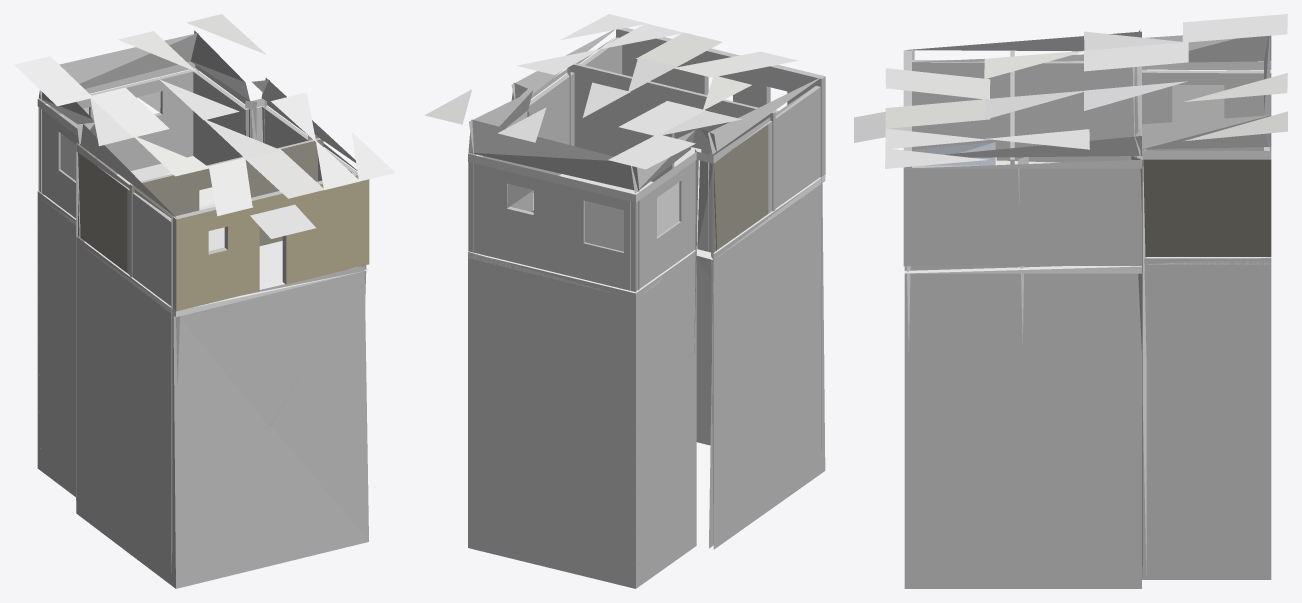
3 views of the same model, side by side, from view 1: azimuth 30°, elevation 25°; view 2: azimuth 150°, elevation 25°; view 3: azimuth 270°, elevation 25° (orthographic). The views are drawn at different scales.
Visible parts, largest first — view 1: F_9; view 2: F_9; view 3: F_9.
Part boxes in pixels (bbox=[...]): F_9: bbox=[14, 14, 395, 588]; F_9: bbox=[424, 14, 825, 588]; F_9: bbox=[854, 14, 1287, 588].
Size of the model in its own units: 6.61 by 11.96 by 10.06.
